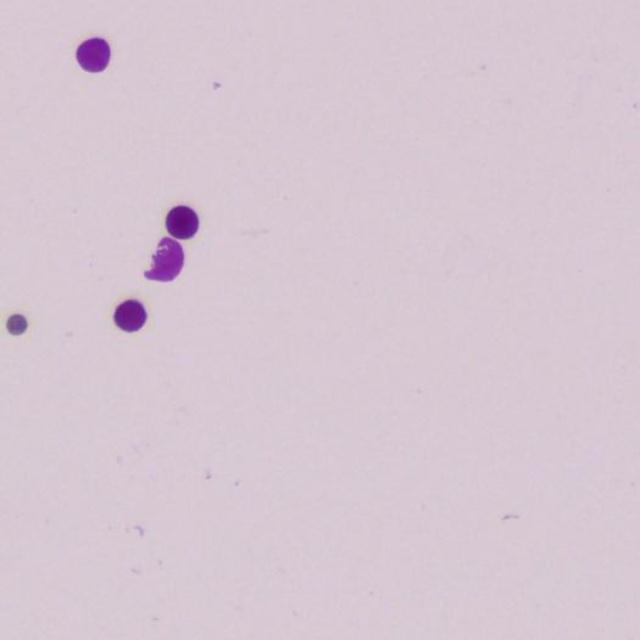non_viable: (6, 313, 27, 334)
viable: (145, 238, 183, 280), (77, 38, 110, 72), (166, 206, 197, 239), (115, 300, 146, 332)
